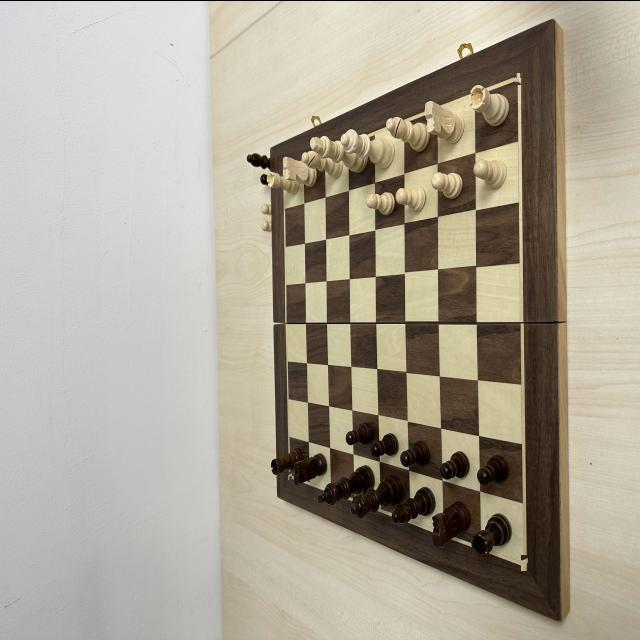chess-table-corners: (521, 554, 528, 570), (515, 72, 523, 84), (280, 162, 286, 173), (288, 471, 292, 479)
